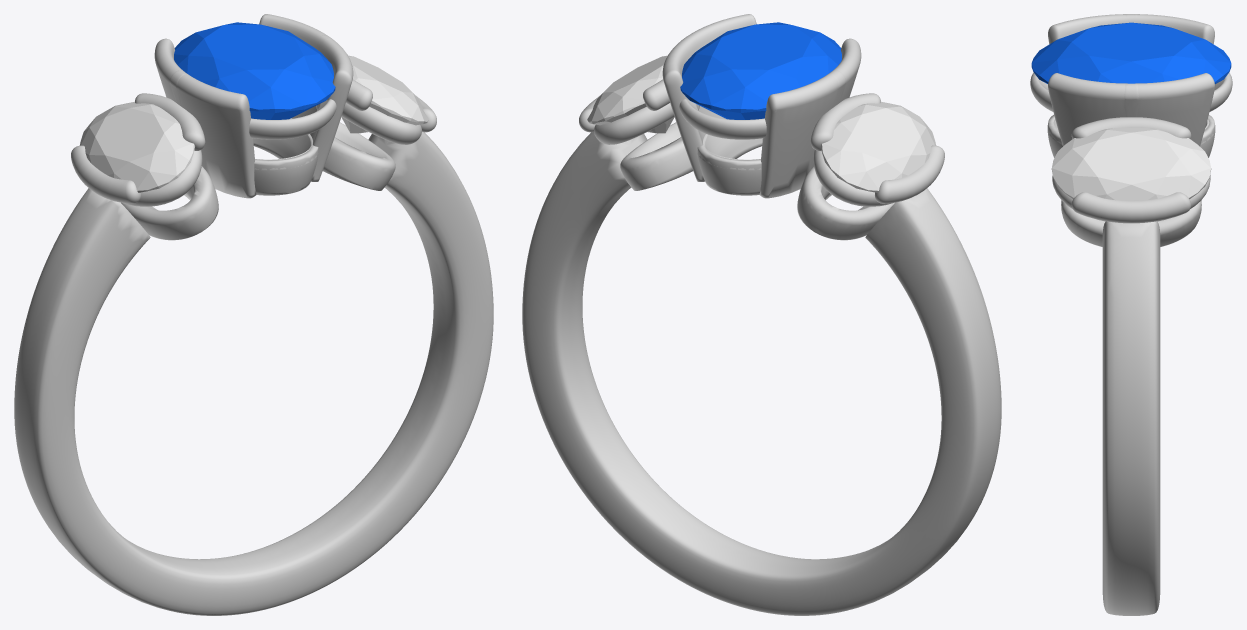
File: bluesapphire-oval-platinum-halfmoonbezel-straightband-3stone.glb
3 views of the same model, side by side, from view 1: azimuth 30°, elevation 25°; view 2: azimuth 150°, elevation 25°; view 3: azimuth 270°, elevation 25° (orthographic).
Visible parts, largest first — view 1: metal, stone.003, side.006, side.007; view 2: metal, stone.003, side.006, side.007; view 3: metal, side.007, stone.003.
Part boxes in pixels (box(x1,y1,x2,y2)): metal: box(14, 14, 493, 615); stone.003: box(174, 22, 335, 119); side.006: box(80, 101, 194, 192); side.007: box(341, 55, 428, 133); metal: box(522, 14, 1001, 615); stone.003: box(680, 22, 841, 119); side.006: box(821, 101, 935, 192); side.007: box(587, 55, 674, 133); metal: box(1030, 14, 1232, 615); side.007: box(1051, 128, 1211, 200); stone.003: box(1031, 22, 1231, 83).
Bounding box in the file's own units: 20.11 × 23.21 × 7.75.
